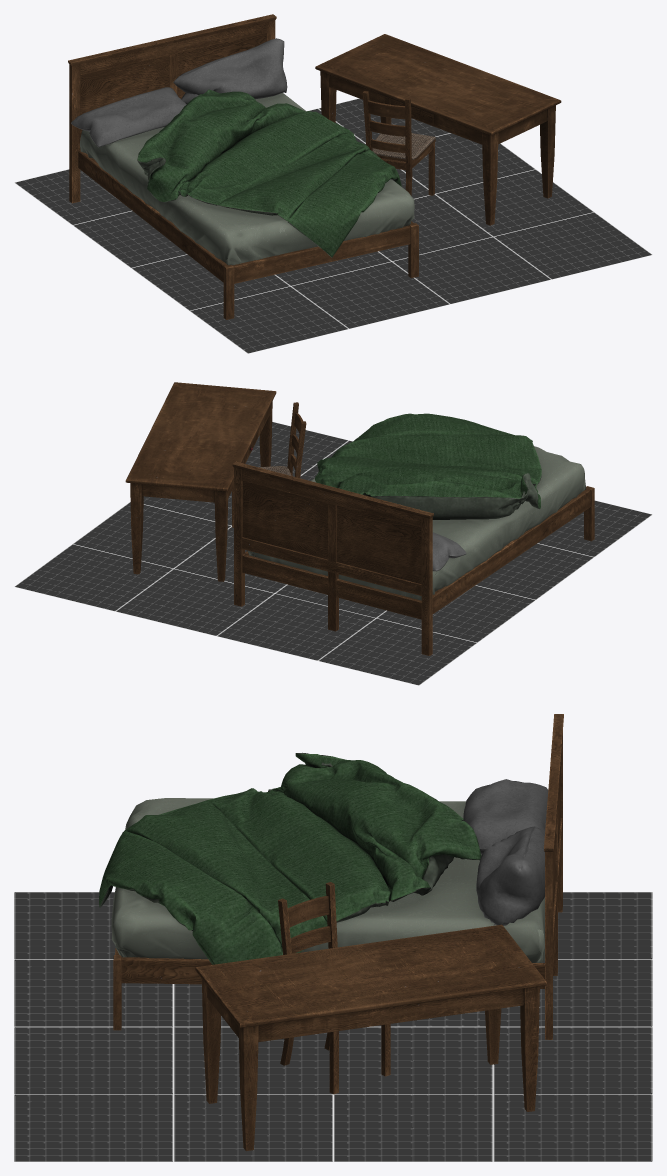
File: bedroom_furniture_set_-_game_ready.glb
3 views of the same model, one above another, from view 1: azimuth 30°, elevation 25°; view 2: azimuth 150°, elevation 25°; view 3: azimuth 270°, elevation 25° (orthographic). The views are drawn at different scales.
Parts seen in each view (by area): view 1: SM_Bed_01, Plane; view 2: SM_Bed_01, Plane; view 3: SM_Bed_01, Plane.
Part boxes in pixels (x1=…): SM_Bed_01: x1=68, y1=14, x2=561, y2=319; Plane: x1=14, y1=98, x2=652, y2=353; SM_Bed_01: x1=125, y1=382, x2=594, y2=655; Plane: x1=14, y1=421, x2=652, y2=685; SM_Bed_01: x1=99, y1=714, x2=563, y2=1151; Plane: x1=14, y1=892, x2=652, y2=1161.
Size of the model in its own units: 4 by 1.33 by 4.
Materials: 2 (2 with a texture image).
